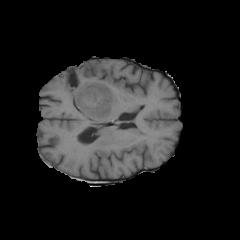glioma: (58, 72, 125, 120)
